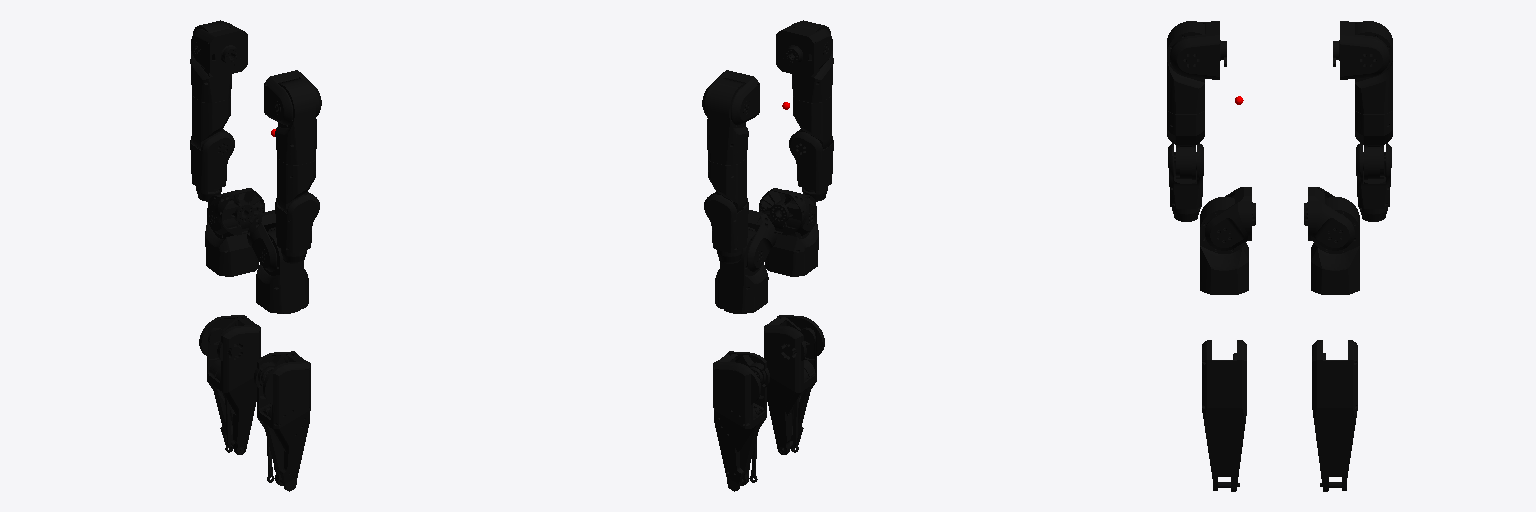
The robot description file, URDF, robot "kbotv2p0_nohands":
<?xml version="1.0" ?>
<robot name="kbotv2p0_nohands">
  <link name="base">
    <visual name="base_visual">
      <geometry name="base_geometry">
        <sphere radius="0.01"/>
      </geometry>
      <material name="base_material">
        <color rgba="1 0 0 1"/>
      </material>
      <origin xyz="0 -0.095 0" rpy="0 0 1.5708"/>
    </visual>
    <inertial name="base_inertial">
      <mass value="0.001"/>
      <inertia ixx="0.000001" iyy="0.000001" izz="0.000001" ixy="0" ixz="0" iyz="0"/>
      <origin xyz="0 -0.095 0" rpy="0 0 1.5708"/>
    </inertial>
  </link>
  <joint name="base_joint" type="fixed">
    <parent link="base"/>
    <child link="Torso_Side_Right"/>
    <origin xyz="0 -0.095 0" rpy="0 0 1.5708"/>
  </joint>
  <joint name="dof_right_shoulder_pitch_03" type="revolute">
    <origin xyz="-0.028031 0.000007 0.126021" rpy="1.570796 0 1.570796"/>
    <parent link="Torso_Side_Right"/>
    <child link="KC_C_104R_PitchHardstopDriven"/>
    <limit effort="60" velocity="18.849" lower="-3.141593" upper="1.396263"/>
    <axis xyz="0 0 1"/>
  </joint>
  <joint name="frame_imu_site" type="fixed">
    <origin xyz="0.121783 0.043292 0.231518" rpy="1.582557 1.570794 1.582557"/>
    <parent link="Torso_Side_Right"/>
    <child link="imu"/>
  </joint>
  <joint name="dof_left_shoulder_pitch_03" type="revolute">
    <origin xyz="0.213969 0.000007 0.126021" rpy="-1.570796 0 1.570796"/>
    <parent link="Torso_Side_Right"/>
    <child link="KC_C_104L_PitchHardstopDriven"/>
    <limit effort="60" velocity="18.849" lower="-1.396263" upper="3.141593"/>
    <axis xyz="0 0 1"/>
  </joint>
  <joint name="dof_right_hip_pitch_04" type="revolute">
    <origin xyz="0.037469 0.000007 -0.284479" rpy="1.570796 0 1.570796"/>
    <parent link="Torso_Side_Right"/>
    <child link="KC_D_102R_R_Hip_Yoke_Drive"/>
    <limit effort="120" velocity="17.488" lower="-2.216568" upper="1.047198"/>
    <axis xyz="0 0 1"/>
  </joint>
  <joint name="dof_left_hip_pitch_04" type="revolute">
    <origin xyz="0.147969 0.000007 -0.284479" rpy="-1.570796 0 1.570796"/>
    <parent link="Torso_Side_Right"/>
    <child link="KC_D_102L_L_Hip_Yoke_Drive"/>
    <limit effort="120" velocity="17.488" lower="-1.047198" upper="2.216568"/>
    <axis xyz="0 0 1"/>
  </joint>
  <joint name="dof_right_shoulder_roll_03" type="revolute">
    <origin xyz="-0.024250 0 -0.080000" rpy="-3.141593 -1.570796 0"/>
    <parent link="KC_C_104R_PitchHardstopDriven"/>
    <child link="RS03_3"/>
    <limit effort="60" velocity="18.849" lower="-1.658063" upper="0.349066"/>
    <axis xyz="0 0 -1"/>
  </joint>
  <joint name="dof_right_hip_roll_03" type="revolute">
    <origin xyz="-0.028250 -0.030000 -0.071000" rpy="3.141593 -1.570796 0"/>
    <parent link="KC_D_102R_R_Hip_Yoke_Drive"/>
    <child link="RS03_4"/>
    <limit effort="60" velocity="18.849" lower="-2.268928" upper="0.209440"/>
    <axis xyz="0 0 -1"/>
  </joint>
  <joint name="dof_left_hip_roll_03" type="revolute">
    <origin xyz="-0.028250 0.030000 -0.071000" rpy="0 1.570796 0"/>
    <parent link="KC_D_102L_L_Hip_Yoke_Drive"/>
    <child link="RS03_5"/>
    <limit effort="60" velocity="18.849" lower="-0.209440" upper="2.268928"/>
    <axis xyz="0 0 -1"/>
  </joint>
  <joint name="dof_left_shoulder_roll_03" type="revolute">
    <origin xyz="-0.024250 0 -0.080000" rpy="-3.141593 1.570796 0"/>
    <parent link="KC_C_104L_PitchHardstopDriven"/>
    <child link="RS03_6"/>
    <limit effort="60" velocity="18.849" lower="-0.349066" upper="1.658063"/>
    <axis xyz="0 0 1"/>
  </joint>
  <joint name="dof_right_shoulder_yaw_02" type="revolute">
    <origin xyz="-0.013000 0.142000 0.030250" rpy="1.570796 0 0"/>
    <parent link="RS03_3"/>
    <child link="KC_C_202R"/>
    <limit effort="17" velocity="37.699" lower="-1.658063" upper="1.658063"/>
    <axis xyz="0 0 1"/>
  </joint>
  <joint name="dof_left_shoulder_yaw_02" type="revolute">
    <origin xyz="0.013000 -0.142000 -0.030250" rpy="1.570796 0 0"/>
    <parent link="RS03_6"/>
    <child link="KC_C_202L"/>
    <limit effort="17" velocity="37.699" lower="-1.658063" upper="1.658063"/>
    <axis xyz="0 0 -1"/>
  </joint>
  <joint name="dof_right_hip_yaw_03" type="revolute">
    <origin xyz="0 0.143000 0.024250" rpy="-1.570796 0 0"/>
    <parent link="RS03_4"/>
    <child link="KC_D_301R_R_Femur_Lower_Drive"/>
    <limit effort="60" velocity="18.849" lower="-1.570796" upper="1.570796"/>
    <axis xyz="0 0 -1"/>
  </joint>
  <joint name="dof_left_hip_yaw_03" type="revolute">
    <origin xyz="0 0.143000 0.024250" rpy="-1.570796 0 0"/>
    <parent link="RS03_5"/>
    <child link="KC_D_301L_L_Femur_Lower_Drive"/>
    <limit effort="60" velocity="18.849" lower="-1.570796" upper="1.570796"/>
    <axis xyz="0 0 -1"/>
  </joint>
  <joint name="dof_right_elbow_02" type="revolute">
    <origin xyz="0.018500 -0.010000 -0.137000" rpy="0 1.570796 0"/>
    <parent link="KC_C_202R"/>
    <child link="KC_C_401R_R_UpForearmDrive"/>
    <limit effort="17" velocity="37.699" lower="0" upper="2.478368"/>
    <axis xyz="0 0 -1"/>
  </joint>
  <joint name="dof_left_elbow_02" type="revolute">
    <origin xyz="-0.018500 0.010000 0.137000" rpy="-3.141593 1.570796 0"/>
    <parent link="KC_C_202L"/>
    <child link="KC_C_401L_L_UpForearmDrive"/>
    <limit effort="17" velocity="37.699" lower="-2.478368" upper="0"/>
    <axis xyz="0 0 -1"/>
  </joint>
  <joint name="dof_right_knee_04" type="revolute">
    <origin xyz="0.020500 -0.021000 0.212000" rpy="1.570796 0 -1.570796"/>
    <parent link="KC_D_301R_R_Femur_Lower_Drive"/>
    <child link="KC_D_401R_R_Shin_Drive"/>
    <limit effort="120" velocity="17.488" lower="-2.705260" upper="0"/>
    <axis xyz="0 0 1"/>
  </joint>
  <joint name="dof_left_knee_04" type="revolute">
    <origin xyz="-0.020500 -0.021000 0.212000" rpy="-1.570796 0 -1.570796"/>
    <parent link="KC_D_301L_L_Femur_Lower_Drive"/>
    <child link="KC_D_401L_L_Shin_Drive"/>
    <limit effort="120" velocity="17.488" lower="0" upper="2.705260"/>
    <axis xyz="0 0 1"/>
  </joint>
  <joint name="dof_right_wrist_00" type="revolute">
    <origin xyz="0.103000 0.017350 -0.018000" rpy="0 -1.570796 0"/>
    <parent link="KC_C_401R_R_UpForearmDrive"/>
    <child link="KB_C_501X_Right_Bayonet_Adapter_Hard_Stop"/>
    <limit effort="14" velocity="27.227" lower="-1.745329" upper="1.745329"/>
    <axis xyz="0 0 1"/>
  </joint>
  <joint name="dof_left_wrist_00" type="revolute">
    <origin xyz="-0.103000 0.017350 -0.018000" rpy="-3.141593 1.570796 0"/>
    <parent link="KC_C_401L_L_UpForearmDrive"/>
    <child link="KB_C_501X_Left_Bayonet_Adapter_Hard_Stop"/>
    <limit effort="14" velocity="27.227" lower="-1.745329" upper="1.745329"/>
    <axis xyz="0 0 -1"/>
  </joint>
  <joint name="dof_right_ankle_02" type="revolute">
    <origin xyz="-0.030000 0.290000 0.035100" rpy="0 0 0"/>
    <parent link="KC_D_401R_R_Shin_Drive"/>
    <child link="KB_D_501R_R_LEG_FOOT"/>
    <limit effort="17" velocity="37.699" lower="-0.226893" upper="1.256637"/>
    <axis xyz="0 0 1"/>
  </joint>
  <joint name="dof_left_ankle_02" type="revolute">
    <origin xyz="-0.030000 -0.290000 0.035100" rpy="-3.141593 0 0"/>
    <parent link="KC_D_401L_L_Shin_Drive"/>
    <child link="KB_D_501L_L_LEG_FOOT"/>
    <limit effort="17" velocity="37.699" lower="-1.256637" upper="0.226893"/>
    <axis xyz="0 0 -1"/>
  </joint>
  <link name="Torso_Side_Right">
    <visual name="Torso_Side_Right_visual">
      <origin xyz="0 0 0" rpy="0 0 0"/>
      <geometry name="Torso_Side_Right_geometry">
        <mesh filename="meshes/Torso_Side_Right.stl"/>
      </geometry>
      <material name="Torso_Side_Right_material">
        <color rgba="0.098039 0.098039 0.098039 1"/>
      </material>
    </visual>
    <inertial name="Torso_Side_Right_inertial">
      <mass value="13.504988"/>
      <inertia ixx="0.485847" iyy="0.512347" izz="0.059200" ixy="0.000137" ixz="-0.000988" iyz="0.010329"/>
      <origin xyz="0.093177 -0.000920 -0.063462" rpy="0 0 0"/>
    </inertial>
  </link>
  <link name="KC_C_104R_PitchHardstopDriven">
    <visual name="KC_C_104R_PitchHardstopDriven_visual">
      <origin xyz="0 0 0" rpy="0 0 0"/>
      <geometry name="KC_C_104R_PitchHardstopDriven_geometry">
        <mesh filename="meshes/KC_C_104R_PitchHardstopDriven.stl"/>
      </geometry>
      <material name="KC_C_104R_PitchHardstopDriven_material">
        <color rgba="0.098039 0.098039 0.098039 1"/>
      </material>
    </visual>
    <inertial name="KC_C_104R_PitchHardstopDriven_inertial">
      <mass value="0.584848"/>
      <inertia ixx="0.001182" iyy="0.001537" izz="0.001416" ixy="-0.000003" ixz="-0.000067" iyz="-0.000002"/>
      <origin xyz="-0.004584 0.002745 -0.051222" rpy="0 0 0"/>
    </inertial>
  </link>
  <link name="imu">
    <visual name="imu_visual">
      <origin xyz="0 0 0" rpy="0 0 0"/>
      <geometry name="imu_geometry">
        <mesh filename="meshes/imu.stl"/>
      </geometry>
      <material name="imu_material">
        <color rgba="0.615686 0.811765 0.929412 1"/>
      </material>
    </visual>
    <inertial name="imu_inertial">
      <mass value="0.005700"/>
      <inertia ixx="0.000001" iyy="0.000001" izz="0.000002" ixy="0" ixz="0" iyz="0"/>
      <origin xyz="0.014737 -0.012000 0.003000" rpy="0 0 0"/>
    </inertial>
  </link>
  <link name="KC_C_104L_PitchHardstopDriven">
    <visual name="KC_C_104L_PitchHardstopDriven_visual">
      <origin xyz="0 0 0" rpy="0 0 0"/>
      <geometry name="KC_C_104L_PitchHardstopDriven_geometry">
        <mesh filename="meshes/KC_C_104L_PitchHardstopDriven.stl"/>
      </geometry>
      <material name="KC_C_104L_PitchHardstopDriven_material">
        <color rgba="0.098039 0.098039 0.098039 1"/>
      </material>
    </visual>
    <inertial name="KC_C_104L_PitchHardstopDriven_inertial">
      <mass value="0.584843"/>
      <inertia ixx="0.001182" iyy="0.001536" izz="0.001415" ixy="0.000003" ixz="-0.000067" iyz="0.000002"/>
      <origin xyz="-0.004595 -0.002745 -0.051222" rpy="0 0 0"/>
    </inertial>
  </link>
  <link name="KC_D_102R_R_Hip_Yoke_Drive">
    <visual name="KC_D_102R_R_Hip_Yoke_Drive_visual">
      <origin xyz="0 0 0" rpy="0 0 0"/>
      <geometry name="KC_D_102R_R_Hip_Yoke_Drive_geometry">
        <mesh filename="meshes/KC_D_102R_R_Hip_Yoke_Drive.stl"/>
      </geometry>
      <material name="KC_D_102R_R_Hip_Yoke_Drive_material">
        <color rgba="0.098039 0.098039 0.098039 1"/>
      </material>
    </visual>
    <inertial name="KC_D_102R_R_Hip_Yoke_Drive_inertial">
      <mass value="0.530428"/>
      <inertia ixx="0.000880" iyy="0.001182" izz="0.001271" ixy="-0.000099" ixz="-0.000086" iyz="-0.000156"/>
      <origin xyz="-0.005644 -0.004227 -0.038197" rpy="0 0 0"/>
    </inertial>
  </link>
  <link name="KC_D_102L_L_Hip_Yoke_Drive">
    <visual name="KC_D_102L_L_Hip_Yoke_Drive_visual">
      <origin xyz="0 0 0" rpy="0 0 0"/>
      <geometry name="KC_D_102L_L_Hip_Yoke_Drive_geometry">
        <mesh filename="meshes/KC_D_102L_L_Hip_Yoke_Drive.stl"/>
      </geometry>
      <material name="KC_D_102L_L_Hip_Yoke_Drive_material">
        <color rgba="0.098039 0.098039 0.098039 1"/>
      </material>
    </visual>
    <inertial name="KC_D_102L_L_Hip_Yoke_Drive_inertial">
      <mass value="0.530424"/>
      <inertia ixx="0.000880" iyy="0.001182" izz="0.001271" ixy="0.000099" ixz="-0.000086" iyz="0.000156"/>
      <origin xyz="-0.005644 0.004227 -0.038197" rpy="0 0 0"/>
    </inertial>
  </link>
  <link name="RS03_3">
    <visual name="RS03_visual_3">
      <origin xyz="0 0 0" rpy="0 0 0"/>
      <geometry name="RS03_geometry_3">
        <mesh filename="meshes/RS03_3.stl"/>
      </geometry>
      <material name="RS03_material_3">
        <color rgba="0.098039 0.098039 0.098039 1"/>
      </material>
    </visual>
    <inertial name="RS03_inertial_3">
      <mass value="1.676509"/>
      <inertia ixx="0.006831" iyy="0.001755" izz="0.007324" ixy="0.000582" ixz="0" iyz="-0.000061"/>
      <origin xyz="-0.004944 0.042532 0.027432" rpy="0 0 0"/>
    </inertial>
  </link>
  <link name="RS03_4">
    <visual name="RS03_visual_4">
      <origin xyz="0 0 0" rpy="0 0 0"/>
      <geometry name="RS03_geometry_4">
        <mesh filename="meshes/RS03_4.stl"/>
      </geometry>
      <material name="RS03_material_4">
        <color rgba="0.098039 0.098039 0.098039 1"/>
      </material>
    </visual>
    <inertial name="RS03_inertial_4">
      <mass value="2.373184"/>
      <inertia ixx="0.010217" iyy="0.003255" izz="0.010667" ixy="-0.000008" ixz="0.000004" iyz="0.000383"/>
      <origin xyz="-0.000249 0.058017 0.025580" rpy="0 0 0"/>
    </inertial>
  </link>
  <link name="RS03_5">
    <visual name="RS03_visual_5">
      <origin xyz="0 0 0" rpy="0 0 0"/>
      <geometry name="RS03_geometry_5">
        <mesh filename="meshes/RS03_5.stl"/>
      </geometry>
      <material name="RS03_material_5">
        <color rgba="0.098039 0.098039 0.098039 1"/>
      </material>
    </visual>
    <inertial name="RS03_inertial_5">
      <mass value="2.373239"/>
      <inertia ixx="0.010217" iyy="0.003255" izz="0.010667" ixy="0.000008" ixz="-0.000004" iyz="0.000383"/>
      <origin xyz="0.000249 0.058017 0.025578" rpy="0 0 0"/>
    </inertial>
  </link>
  <link name="RS03_6">
    <visual name="RS03_visual_6">
      <origin xyz="0 0 0" rpy="0 0 0"/>
      <geometry name="RS03_geometry_6">
        <mesh filename="meshes/RS03_6.stl"/>
      </geometry>
      <material name="RS03_material_6">
        <color rgba="0.098039 0.098039 0.098039 1"/>
      </material>
    </visual>
    <inertial name="RS03_inertial_6">
      <mass value="1.676479"/>
      <inertia ixx="0.006830" iyy="0.001755" izz="0.007324" ixy="0.000582" ixz="0" iyz="-0.000061"/>
      <origin xyz="0.004944 -0.042531 -0.027433" rpy="0 0 0"/>
    </inertial>
  </link>
  <link name="KC_C_202R">
    <visual name="KC_C_202R_visual">
      <origin xyz="0 0 0" rpy="0 0 0"/>
      <geometry name="KC_C_202R_geometry">
        <mesh filename="meshes/KC_C_202R.stl"/>
      </geometry>
      <material name="KC_C_202R_material">
        <color rgba="0.098039 0.098039 0.098039 1"/>
      </material>
    </visual>
    <inertial name="KC_C_202R_inertial">
      <mass value="0.743508"/>
      <inertia ixx="0.002410" iyy="0.002208" izz="0.000693" ixy="-0.000030" ixz="-0.000203" iyz="-0.000143"/>
      <origin xyz="0.003910 -0.004160 -0.101316" rpy="0 0 0"/>
    </inertial>
  </link>
  <link name="KC_C_202L">
    <visual name="KC_C_202L_visual">
      <origin xyz="0 0 0" rpy="0 0 0"/>
      <geometry name="KC_C_202L_geometry">
        <mesh filename="meshes/KC_C_202L.stl"/>
      </geometry>
      <material name="KC_C_202L_material">
        <color rgba="0.098039 0.098039 0.098039 1"/>
      </material>
    </visual>
    <inertial name="KC_C_202L_inertial">
      <mass value="0.579259"/>
      <inertia ixx="0.001537" iyy="0.001383" izz="0.000471" ixy="-0.000005" ixz="-0.000047" iyz="-0.000099"/>
      <origin xyz="0.000925 0.006010 0.113327" rpy="0 0 0"/>
    </inertial>
  </link>
  <link name="KC_D_301R_R_Femur_Lower_Drive">
    <visual name="KC_D_301R_R_Femur_Lower_Drive_visual">
      <origin xyz="0 0 0" rpy="0 0 0"/>
      <geometry name="KC_D_301R_R_Femur_Lower_Drive_geometry">
        <mesh filename="meshes/KC_D_301R_R_Femur_Lower_Drive.stl"/>
      </geometry>
      <material name="KC_D_301R_R_Femur_Lower_Drive_material">
        <color rgba="0.098039 0.098039 0.098039 1"/>
      </material>
    </visual>
    <inertial name="KC_D_301R_R_Femur_Lower_Drive_inertial">
      <mass value="2.343635"/>
      <inertia ixx="0.015645" iyy="0.014172" izz="0.004016" ixy="-0.000180" ixz="0.001092" iyz="0.001522"/>
      <origin xyz="-0.001014 -0.013387 0.171456" rpy="0 0 0"/>
    </inertial>
  </link>
  <link name="KC_D_301L_L_Femur_Lower_Drive">
    <visual name="KC_D_301L_L_Femur_Lower_Drive_visual">
      <origin xyz="0 0 0" rpy="0 0 0"/>
      <geometry name="KC_D_301L_L_Femur_Lower_Drive_geometry">
        <mesh filename="meshes/KC_D_301L_L_Femur_Lower_Drive.stl"/>
      </geometry>
      <material name="KC_D_301L_L_Femur_Lower_Drive_material">
        <color rgba="0.098039 0.098039 0.098039 1"/>
      </material>
    </visual>
    <inertial name="KC_D_301L_L_Femur_Lower_Drive_inertial">
      <mass value="2.343629"/>
      <inertia ixx="0.015644" iyy="0.014172" izz="0.004016" ixy="0.000181" ixz="-0.001092" iyz="0.001522"/>
      <origin xyz="0.001013 -0.013386 0.171458" rpy="0 0 0"/>
    </inertial>
  </link>
  <link name="KC_C_401R_R_UpForearmDrive">
    <visual name="KC_C_401R_R_UpForearmDrive_visual">
      <origin xyz="0 0 0" rpy="0 0 0"/>
      <geometry name="KC_C_401R_R_UpForearmDrive_geometry">
        <mesh filename="meshes/KC_C_401R_R_UpForearmDrive.stl"/>
      </geometry>
      <material name="KC_C_401R_R_UpForearmDrive_material">
        <color rgba="0.098039 0.098039 0.098039 1"/>
      </material>
    </visual>
    <inertial name="KC_C_401R_R_UpForearmDrive_inertial">
      <mass value="0.585204"/>
      <inertia ixx="0.000522" iyy="0.001021" izz="0.001020" ixy="-0.000047" ixz="0.000102" iyz="0.000017"/>
      <origin xyz="0.061999 0.015867 -0.012446" rpy="0 0 0"/>
    </inertial>
  </link>
  <link name="KC_C_401L_L_UpForearmDrive">
    <visual name="KC_C_401L_L_UpForearmDrive_visual">
      <origin xyz="0 0 0" rpy="0 0 0"/>
      <geometry name="KC_C_401L_L_UpForearmDrive_geometry">
        <mesh filename="meshes/KC_C_401L_L_UpForearmDrive.stl"/>
      </geometry>
      <material name="KC_C_401L_L_UpForearmDrive_material">
        <color rgba="0.098039 0.098039 0.098039 1"/>
      </material>
    </visual>
    <inertial name="KC_C_401L_L_UpForearmDrive_inertial">
      <mass value="0.585219"/>
      <inertia ixx="0.000522" iyy="0.001021" izz="0.001020" ixy="0.000047" ixz="-0.000102" iyz="0.000017"/>
      <origin xyz="-0.061998 0.015867 -0.012446" rpy="0 0 0"/>
    </inertial>
  </link>
  <link name="KC_D_401R_R_Shin_Drive">
    <visual name="KC_D_401R_R_Shin_Drive_visual">
      <origin xyz="0 0 0" rpy="0 0 0"/>
      <geometry name="KC_D_401R_R_Shin_Drive_geometry">
        <mesh filename="meshes/KC_D_401R_R_Shin_Drive.stl"/>
      </geometry>
      <material name="KC_D_401R_R_Shin_Drive_material">
        <color rgba="0.098039 0.098039 0.098039 1"/>
      </material>
    </visual>
    <inertial name="KC_D_401R_R_Shin_Drive_inertial">
      <mass value="1.670592"/>
      <inertia ixx="0.014672" iyy="0.002924" izz="0.014592" ixy="0.000103" ixz="0.000025" iyz="-0.000490"/>
      <origin xyz="-0.024549 0.104152 0.018182" rpy="0 0 0"/>
    </inertial>
  </link>
  <link name="KC_D_401L_L_Shin_Drive">
    <visual name="KC_D_401L_L_Shin_Drive_visual">
      <origin xyz="0 0 0" rpy="0 0 0"/>
      <geometry name="KC_D_401L_L_Shin_Drive_geometry">
        <mesh filename="meshes/KC_D_401L_L_Shin_Drive.stl"/>
      </geometry>
      <material name="KC_D_401L_L_Shin_Drive_material">
        <color rgba="0.098039 0.098039 0.098039 1"/>
      </material>
    </visual>
    <inertial name="KC_D_401L_L_Shin_Drive_inertial">
      <mass value="1.670535"/>
      <inertia ixx="0.014672" iyy="0.002924" izz="0.014592" ixy="-0.000103" ixz="0.000025" iyz="0.000490"/>
      <origin xyz="-0.024550 -0.104154 0.018183" rpy="0 0 0"/>
    </inertial>
  </link>
  <link name="KB_C_501X_Right_Bayonet_Adapter_Hard_Stop">
    <visual name="KB_C_501X_Right_Bayonet_Adapter_Hard_Stop_visual">
      <origin xyz="0 0 0" rpy="0 0 0"/>
      <geometry name="KB_C_501X_Right_Bayonet_Adapter_Hard_Stop_geometry">
        <mesh filename="meshes/KB_C_501X_Right_Bayonet_Adapter_Hard_Stop.stl"/>
      </geometry>
      <material name="KB_C_501X_Right_Bayonet_Adapter_Hard_Stop_material">
        <color rgba="0.098039 0.098039 0.098039 1"/>
      </material>
    </visual>
    <inertial name="KB_C_501X_Right_Bayonet_Adapter_Hard_Stop_inertial">
      <mass value="0.152198"/>
      <inertia ixx="0.000061" iyy="0.000061" izz="0.000084" ixy="0" ixz="0" iyz="0"/>
      <origin xyz="0.004187 0.000068 -0.019905" rpy="0 0 0"/>
    </inertial>
  </link>
  <link name="KB_C_501X_Left_Bayonet_Adapter_Hard_Stop">
    <visual name="KB_C_501X_Left_Bayonet_Adapter_Hard_Stop_visual">
      <origin xyz="0 0 0" rpy="0 0 0"/>
      <geometry name="KB_C_501X_Left_Bayonet_Adapter_Hard_Stop_geometry">
        <mesh filename="meshes/KB_C_501X_Left_Bayonet_Adapter_Hard_Stop.stl"/>
      </geometry>
      <material name="KB_C_501X_Left_Bayonet_Adapter_Hard_Stop_material">
        <color rgba="0.098039 0.098039 0.098039 1"/>
      </material>
    </visual>
    <inertial name="KB_C_501X_Left_Bayonet_Adapter_Hard_Stop_inertial">
      <mass value="0.152198"/>
      <inertia ixx="0.000061" iyy="0.000061" izz="0.000084" ixy="0" ixz="0" iyz="0"/>
      <origin xyz="-0.004187 -0.000068 0.019905" rpy="0 0 0"/>
    </inertial>
  </link>
  <link name="KB_D_501R_R_LEG_FOOT">
    <visual name="KB_D_501R_R_LEG_FOOT_visual">
      <origin xyz="0 0 0" rpy="0 0 0"/>
      <geometry name="KB_D_501R_R_LEG_FOOT_geometry">
        <mesh filename="meshes/KB_D_501R_R_LEG_FOOT.stl"/>
      </geometry>
      <material name="KB_D_501R_R_LEG_FOOT_material">
        <color rgba="0.098039 0.098039 0.098039 1"/>
      </material>
    </visual>
    <collision name="KB_D_501R_R_LEG_FOOT.collision">
      <origin xyz="0 0 0" rpy="0 0 0"/>
      <geometry name="KB_D_501R_R_LEG_FOOT_collision_geometry">
        <mesh filename="meshes/KB_D_501R_R_LEG_FOOT.collision.stl"/>
      </geometry>
    </collision>
    <inertial name="KB_D_501R_R_LEG_FOOT_inertial">
      <mass value="0.620712"/>
      <inertia ixx="0.000370" iyy="0.002011" izz="0.001945" ixy="0.000111" ixz="0.000019" iyz="-0.000021"/>
      <origin xyz="-0.017470 0.032456 -0.015742" rpy="0 0 0"/>
    </inertial>
  </link>
  <link name="KB_D_501L_L_LEG_FOOT">
    <visual name="KB_D_501L_L_LEG_FOOT_visual">
      <origin xyz="0 0 0" rpy="0 0 0"/>
      <geometry name="KB_D_501L_L_LEG_FOOT_geometry">
        <mesh filename="meshes/KB_D_501L_L_LEG_FOOT.stl"/>
      </geometry>
      <material name="KB_D_501L_L_LEG_FOOT_material">
        <color rgba="0.098039 0.098039 0.098039 1"/>
      </material>
    </visual>
    <collision name="KB_D_501L_L_LEG_FOOT.collision">
      <origin xyz="0 0 0" rpy="0 0 0"/>
      <geometry name="KB_D_501L_L_LEG_FOOT_collision_geometry">
        <mesh filename="meshes/KB_D_501L_L_LEG_FOOT.collision.stl"/>
      </geometry>
    </collision>
    <inertial name="KB_D_501L_L_LEG_FOOT_inertial">
      <mass value="0.620712"/>
      <inertia ixx="0.000370" iyy="0.002011" izz="0.001945" ixy="0.000111" ixz="-0.000019" iyz="0.000021"/>
      <origin xyz="-0.017470 0.032456 0.015742" rpy="0 0 0"/>
    </inertial>
  </link>
</robot>

--- Render facts (derived) ---
The picture shows the robot from 3 angles, left to right: view 1: azimuth 30°, elevation 25°; view 2: azimuth 150°, elevation 25°; view 3: azimuth 270°, elevation 25°; orthographic projection.
Robot: kbotv2p0_nohands — 23 links, 22 joints (20 revolute, 2 fixed); root link base; default pose: all joints at 0.
Visible links, largest first — view 1: KC_D_401R_R_Shin_Drive, KC_D_401L_L_Shin_Drive, RS03_3, RS03_4, KC_C_104L_PitchHardstopDriven, RS03_5, KC_C_401L_L_UpForearmDrive, KC_C_401R_R_UpForearmDrive, KC_D_102L_L_Hip_Yoke_Drive, RS03_6, KC_C_104R_PitchHardstopDriven, KC_C_202R (+2 smaller); view 2: KC_D_401L_L_Shin_Drive, KC_D_401R_R_Shin_Drive, RS03_6, RS03_5, KC_C_104R_PitchHardstopDriven, RS03_4, KC_C_401R_R_UpForearmDrive, KC_C_401L_L_UpForearmDrive, KC_D_102R_R_Hip_Yoke_Drive, RS03_3, KC_C_104L_PitchHardstopDriven, KC_C_202L (+2 smaller); view 3: KC_D_401L_L_Shin_Drive, KC_D_401R_R_Shin_Drive, RS03_5, RS03_4, KC_C_104R_PitchHardstopDriven, KC_C_104L_PitchHardstopDriven, KC_D_102R_R_Hip_Yoke_Drive, RS03_3, RS03_6, KC_D_102L_L_Hip_Yoke_Drive, KC_C_202R, KC_C_202L (+2 smaller).
Link boxes in pixels (x1,y1,x2,y2): KC_D_401R_R_Shin_Drive: (254,351,310,491); KC_D_401L_L_Shin_Drive: (199,315,260,454); RS03_3: (275,79,316,164); RS03_4: (256,230,308,313); KC_C_104L_PitchHardstopDriven: (191,22,247,77); RS03_5: (205,190,258,276); KC_C_401L_L_UpForearmDrive: (190,132,234,190); KC_C_401R_R_UpForearmDrive: (275,194,319,252); KC_D_102L_L_Hip_Yoke_Drive: (207,188,264,235); RS03_6: (190,20,231,102); KC_C_104R_PitchHardstopDriven: (264,70,321,125); KC_C_202R: (277,158,315,212); KC_D_401L_L_Shin_Drive: (713,351,769,491); KC_D_401R_R_Shin_Drive: (764,315,824,454); RS03_6: (707,79,748,164); RS03_5: (715,230,768,313); KC_C_104R_PitchHardstopDriven: (776,22,832,77); RS03_4: (765,190,818,276); KC_C_401R_R_UpForearmDrive: (789,132,833,190); KC_C_401L_L_UpForearmDrive: (704,194,748,252); KC_D_102R_R_Hip_Yoke_Drive: (759,188,816,235); RS03_3: (792,20,833,102); KC_C_104L_PitchHardstopDriven: (702,70,759,125); KC_C_202L: (708,158,746,212); KC_D_401L_L_Shin_Drive: (1312,340,1357,491); KC_D_401R_R_Shin_Drive: (1202,340,1246,491); RS03_5: (1311,197,1359,294); RS03_4: (1200,197,1248,294); KC_C_104R_PitchHardstopDriven: (1170,21,1226,79); KC_C_104L_PitchHardstopDriven: (1333,21,1389,79); KC_D_102R_R_Hip_Yoke_Drive: (1205,187,1255,250); RS03_3: (1167,21,1204,113); RS03_6: (1355,21,1392,113); KC_D_102L_L_Hip_Yoke_Drive: (1304,187,1354,250); KC_C_202R: (1167,111,1204,179); KC_C_202L: (1355,111,1392,179).
Size in the robot's own frame: 0.1327 by 0.516 by 1.16 metres.
Meshes: 22 distinct files referenced, 16 mesh visuals loaded (16 binary STL); not drawn: 6 (reference not matched to a file when rendering).